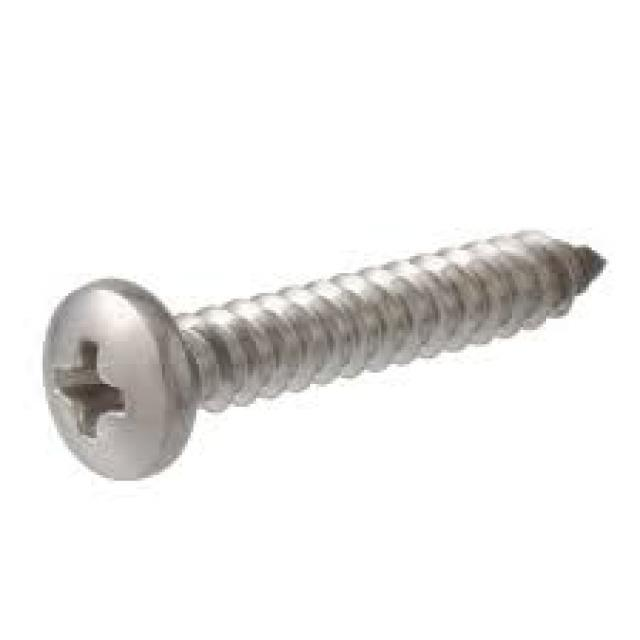Screw: (43, 228, 609, 484)
